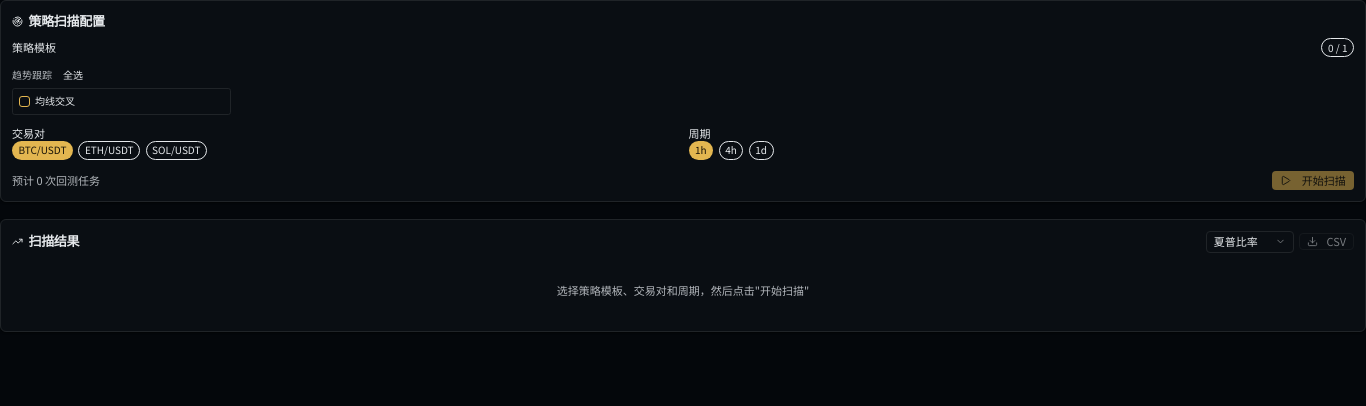
Test: 扫描期间不伪造结果 › 进度来自后端 progress，不是已完成数 / 总数
The width and height of the screenshot is (1366, 406).
Step 1. Click the checkbox → (24, 101), box [18,96,30,107]
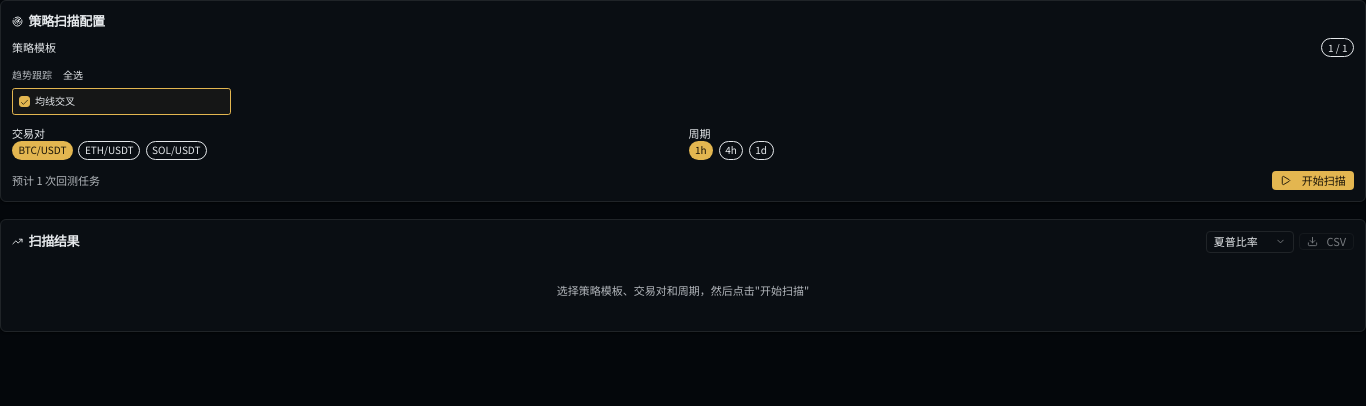
Step 2. Click the button "开始扫描" → (1313, 180), box [1272,171,1354,190]
Wait 3000 ms
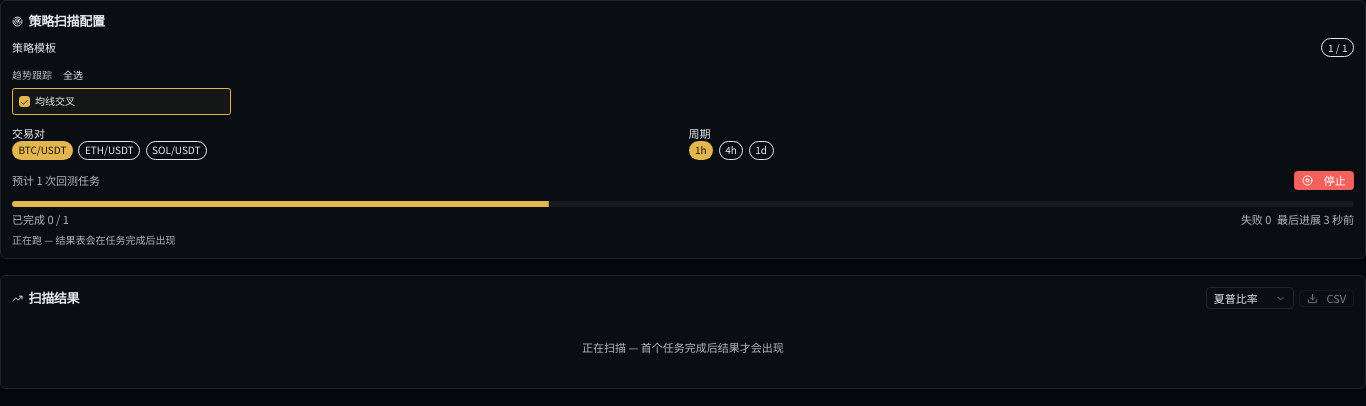
Check: the text "已完成 0 / 1" is shown, box [12,212,69,228]
Check: the progress indicator is shown, box [12,201,1354,207]
